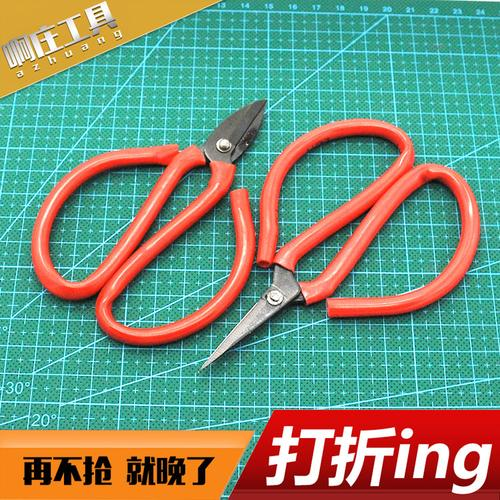scissor: (196, 118, 478, 368), (31, 99, 266, 346)
